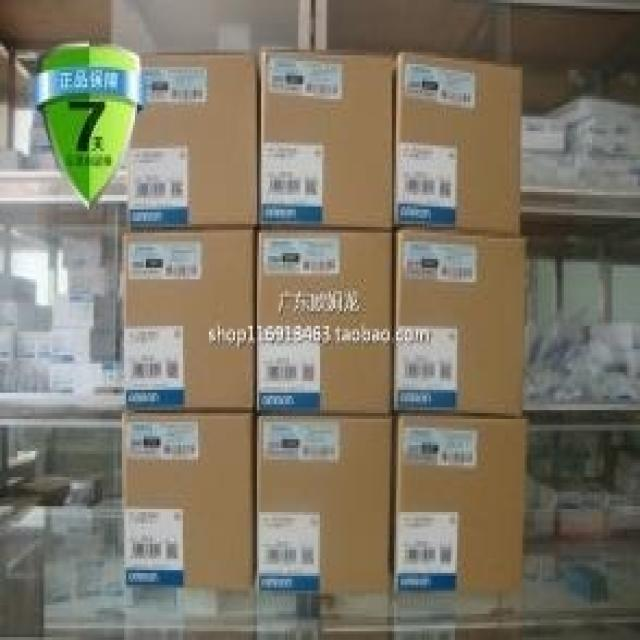box: (394, 230, 528, 416), (257, 232, 393, 414), (394, 417, 529, 597), (260, 47, 393, 229), (393, 53, 522, 237), (259, 417, 392, 594), (124, 230, 255, 409), (123, 413, 254, 592), (129, 53, 258, 231)
